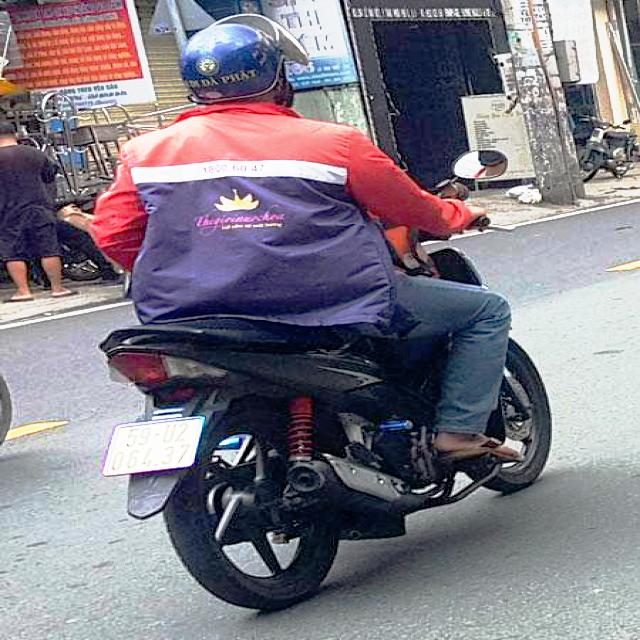license_plate: (103, 418, 201, 475)
